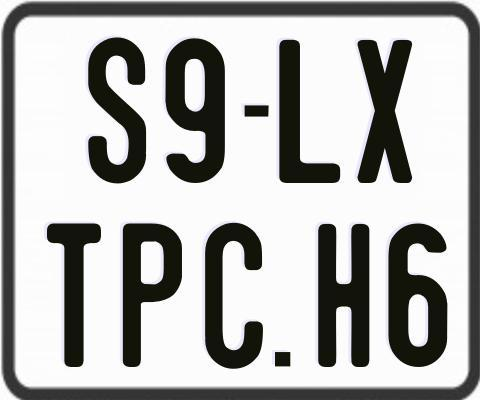6: (386, 222, 447, 365)
9: (164, 36, 224, 181)
C: (205, 220, 266, 370)
H: (318, 223, 375, 370)
L: (278, 38, 343, 181)
P: (122, 221, 187, 369)
S: (86, 37, 149, 184)
T: (45, 223, 99, 370)
X: (356, 38, 411, 186)
